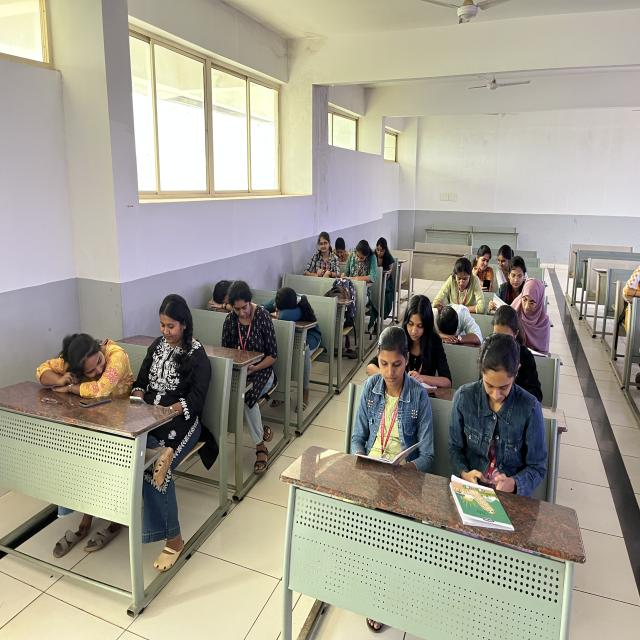Reading: (349, 322, 435, 475), (431, 255, 496, 311), (492, 258, 534, 312)
Sleeping: (260, 285, 334, 356), (423, 293, 491, 360), (205, 274, 248, 316)
Using Phone: (438, 328, 562, 504), (124, 285, 220, 457), (217, 282, 281, 388), (468, 245, 500, 296)
Writing: (509, 275, 561, 357), (337, 234, 381, 286)
